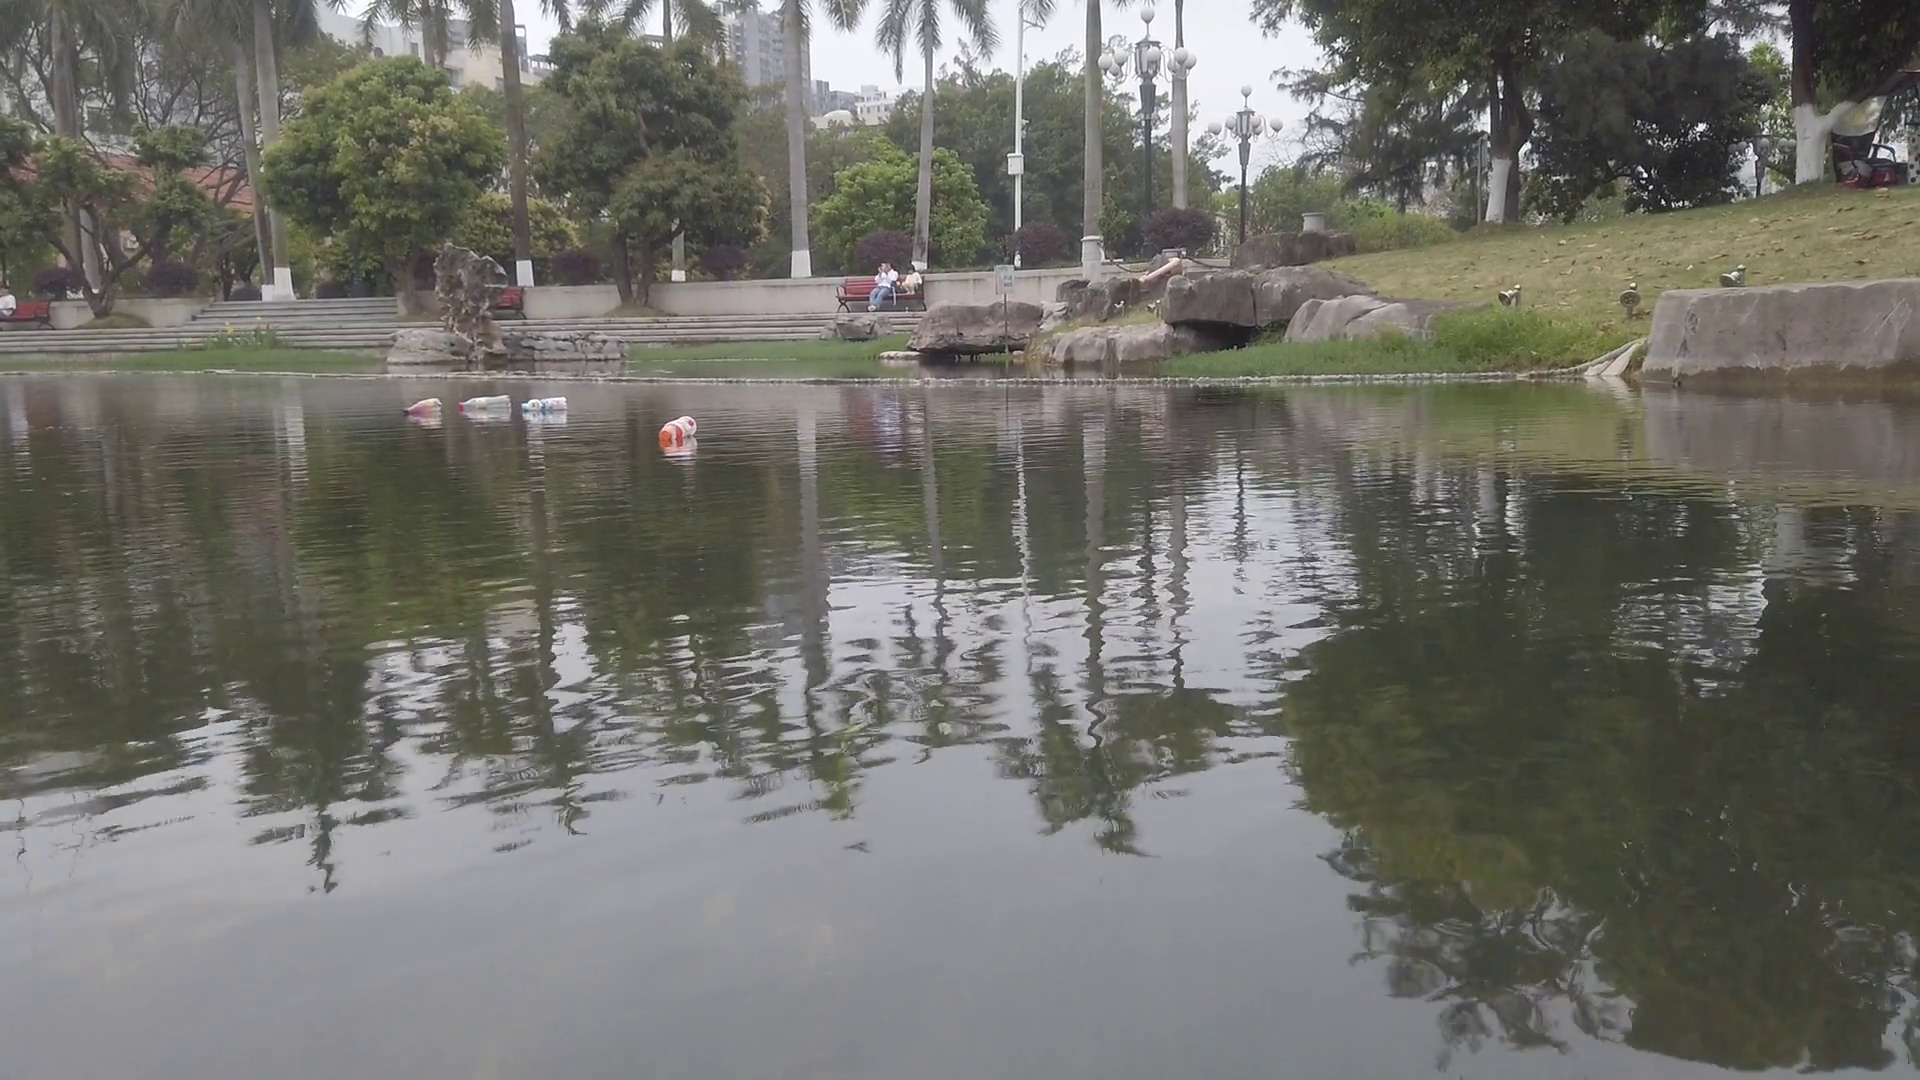bottle: (658, 414, 698, 440), (458, 396, 513, 413), (402, 398, 446, 413), (521, 398, 568, 411)
